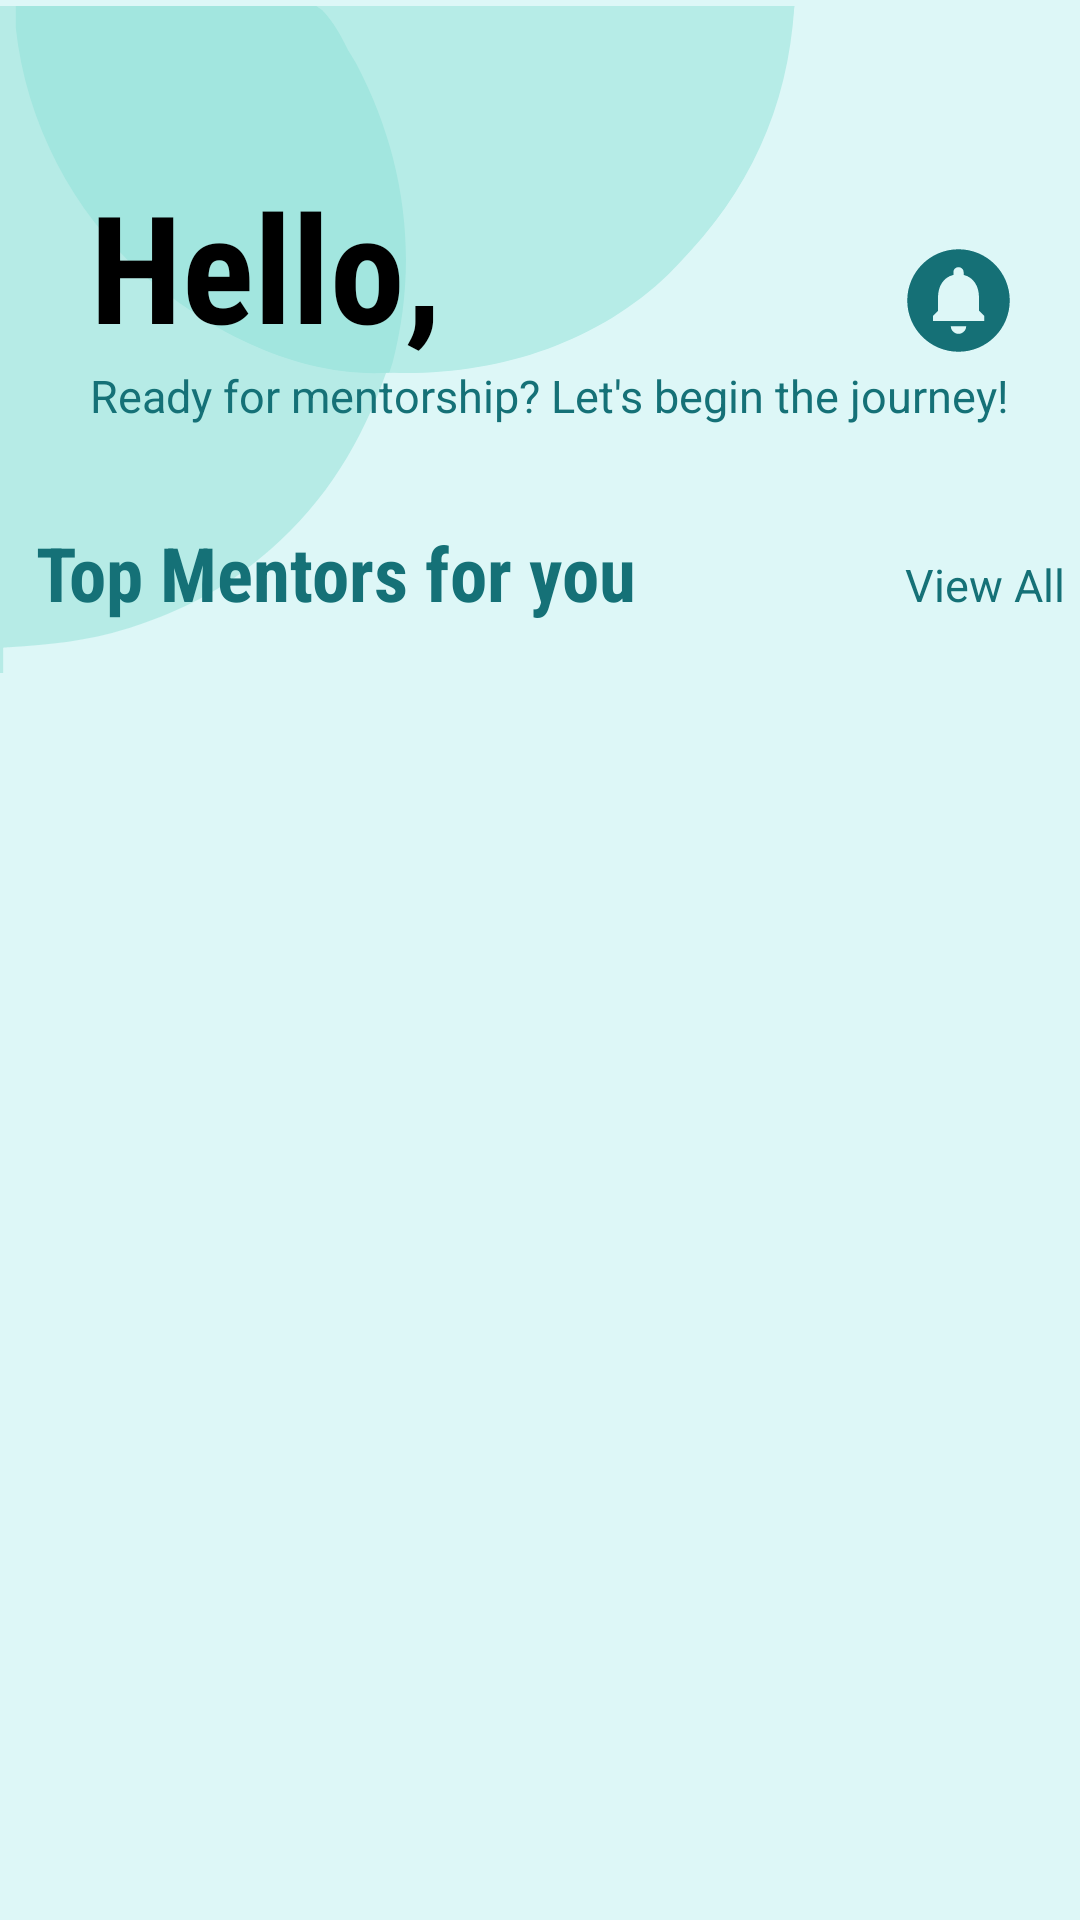

Where icons sit on this 1080 x 1920 app screen, as (x1, y1, x2, y2):
circle notifications: (907, 249, 1010, 352)
